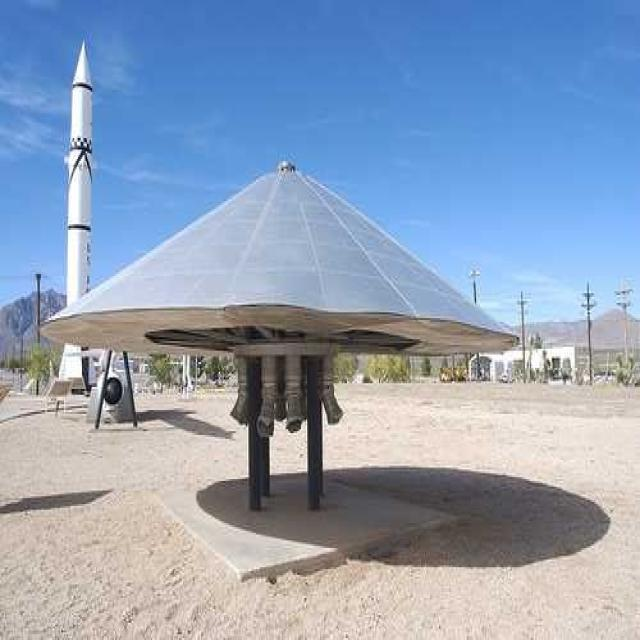missile: (54, 35, 94, 401)
